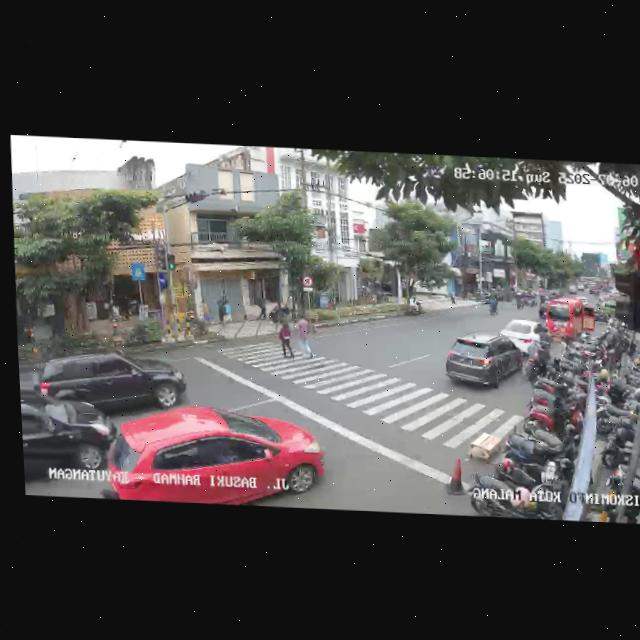car: (103, 401, 327, 508), (29, 342, 186, 415), (21, 399, 116, 495), (442, 332, 529, 393), (544, 295, 598, 344), (500, 315, 554, 354), (596, 288, 619, 313)
motorcycle: (485, 293, 498, 316)
person: (276, 317, 295, 357), (295, 314, 311, 356)
